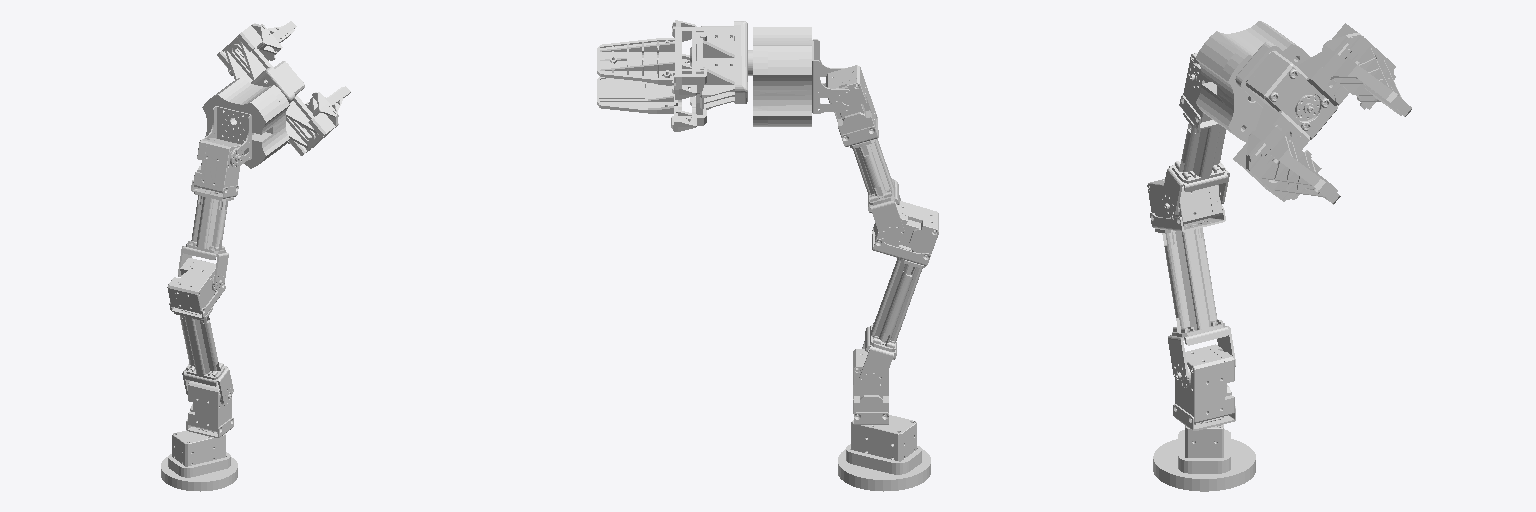
URDF robot description (complete_arm_assembly):
<?xml version="1.0" encoding="utf-8"?>
<!-- This URDF was automatically created by SolidWorks to URDF Exporter! Originally created by Stephen Brawner (brawner@gmail.com) 
     Commit Version: 1.6.0-4-g7f85cfe  Build Version: 1.6.7995.38578
     For more information, please see http://wiki.ros.org/sw_urdf_exporter -->
<robot
  name="complete_arm_assembly">
  <link
    name="base_link">
    <inertial>
      <origin
        xyz="-0.0126522064234279 0.0112081741589456 1.03738375057827"
        rpy="0 0 0" />
      <mass
        value="0.0944596926666338" />
      <inertia
        ixx="2.49395953752317E-05"
        ixy="-1.07943571271723E-07"
        ixz="1.09620010475091E-09"
        iyy="4.59171379732495E-05"
        iyz="8.47831697329348E-09"
        izz="3.13098479474975E-05" />
    </inertial>
    <visual>
      <origin
        xyz="0 0 0"
        rpy="0 0 0" />
      <geometry>
        <mesh
          filename="package://complete_arm_assembly/meshes/base_link.STL" />
      </geometry>
      <material
        name="">
        <color
          rgba="0.894117647058823 0.894117647058823 0.894117647058823 1" />
      </material>
    </visual>
    <collision>
      <origin
        xyz="0 0 0"
        rpy="0 0 0" />
      <geometry>
        <mesh
          filename="package://complete_arm_assembly/meshes/base_link.STL" />
      </geometry>
    </collision>
  </link>
  <link
    name="link_1">
    <inertial>
      <origin
        xyz="-1.21952357101662E-08 0.0275827025842473 0.000932155095934251"
        rpy="0 0 0" />
      <mass
        value="0.0446962058831376" />
      <inertia
        ixx="1.2281031278665E-05"
        ixy="1.20613706142599E-12"
        ixz="7.89362412621311E-12"
        iyy="7.29718852707007E-06"
        iyz="-1.08328965106875E-07"
        izz="1.06262085935607E-05" />
    </inertial>
    <visual>
      <origin
        xyz="0 0 0"
        rpy="0 0 0" />
      <geometry>
        <mesh
          filename="package://complete_arm_assembly/meshes/link_1.STL" />
      </geometry>
      <material
        name="">
        <color
          rgba="0.894117647058823 0.894117647058823 0.894117647058823 1" />
      </material>
    </visual>
    <collision>
      <origin
        xyz="0 0 0"
        rpy="0 0 0" />
      <geometry>
        <mesh
          filename="package://complete_arm_assembly/meshes/link_1.STL" />
      </geometry>
    </collision>
  </link>
  <joint
    name="joint_1"
    type="revolute">
    <origin
      xyz="-0.00078087 -1.0373 0.041025"
      rpy="1.5708 0 0.52968" />
    <parent
      link="base_link" />
    <child
      link="link_1" />
    <axis
      xyz="0 1 0" />
    <limit
      lower="0"
      upper="0"
      effort="0"
      velocity="0" />
  </joint>
  <link
    name="link_2">
    <inertial>
      <origin
        xyz="0.00834949781275746 0.104913900374987 0.000619823079234583"
        rpy="0 0 0" />
      <mass
        value="0.0672255298525689" />
      <inertia
        ixx="2.05050978794384E-05"
        ixy="6.64298051454639E-11"
        ixz="-1.08314547769564E-07"
        iyy="1.63154142770848E-05"
        iyz="-3.36235925763034E-11"
        izz="2.26290225979944E-05" />
    </inertial>
    <visual>
      <origin
        xyz="0 0 0"
        rpy="0 0 0" />
      <geometry>
        <mesh
          filename="package://complete_arm_assembly/meshes/link_2.STL" />
      </geometry>
      <material
        name="">
        <color
          rgba="0.894117647058823 0.894117647058823 0.894117647058823 1" />
      </material>
    </visual>
    <collision>
      <origin
        xyz="0 0 0"
        rpy="0 0 0" />
      <geometry>
        <mesh
          filename="package://complete_arm_assembly/meshes/link_2.STL" />
      </geometry>
    </collision>
  </link>
  <joint
    name="joint_2"
    type="revolute">
    <origin
      xyz="0 0.040505 0"
      rpy="0 0 0.31732" />
    <parent
      link="link_1" />
    <child
      link="link_2" />
    <axis
      xyz="0 0 1" />
    <limit
      lower="0"
      upper="0"
      effort="0"
      velocity="0" />
  </joint>
  <link
    name="link_3">
    <inertial>
      <origin
        xyz="0.0935866050880213 6.67293575173922E-07 0.00068111158867068"
        rpy="0 0 0" />
      <mass
        value="0.0611704168846414" />
      <inertia
        ixx="1.00859845876895E-05"
        ixy="-2.17559601024057E-11"
        ixz="-1.08328506713134E-07"
        iyy="1.83430472565671E-05"
        iyz="-9.01129243746046E-12"
        izz="1.53128567578939E-05" />
    </inertial>
    <visual>
      <origin
        xyz="0 0 0"
        rpy="0 0 0" />
      <geometry>
        <mesh
          filename="package://complete_arm_assembly/meshes/link_3.STL" />
      </geometry>
      <material
        name="">
        <color
          rgba="0.894117647058823 0.894117647058823 0.894117647058823 1" />
      </material>
    </visual>
    <collision>
      <origin
        xyz="0 0 0"
        rpy="0 0 0" />
      <geometry>
        <mesh
          filename="package://complete_arm_assembly/meshes/link_3.STL" />
      </geometry>
    </collision>
  </link>
  <joint
    name="joint_3"
    type="revolute">
    <origin
      xyz="0.024 0.128 0"
      rpy="0 0 0.95298" />
    <parent
      link="link_2" />
    <child
      link="link_3" />
    <axis
      xyz="0 0 1" />
    <limit
      lower="0"
      upper="0"
      effort="0"
      velocity="0" />
  </joint>
  <link
    name="link_4">
    <inertial>
      <origin
        xyz="0.0507317607444873 0.0117974755114853 -0.000207275711896826"
        rpy="0 0 0" />
      <mass
        value="0.181115636310511" />
      <inertia
        ixx="0.000125082991168769"
        ixy="-1.91715154402022E-07"
        ixz="-3.18809488045174E-07"
        iyy="7.52710719324352E-05"
        iyz="2.81457808221661E-09"
        izz="7.57487396080242E-05" />
    </inertial>
    <visual>
      <origin
        xyz="0 0 0"
        rpy="0 0 0" />
      <geometry>
        <mesh
          filename="package://complete_arm_assembly/meshes/link_4.STL" />
      </geometry>
      <material
        name="">
        <color
          rgba="0.894117647058823 0.894117647058823 0.894117647058823 1" />
      </material>
    </visual>
    <collision>
      <origin
        xyz="0 0 0"
        rpy="0 0 0" />
      <geometry>
        <mesh
          filename="package://complete_arm_assembly/meshes/link_4.STL" />
      </geometry>
    </collision>
  </link>
  <joint
    name="joint_4"
    type="revolute">
    <origin
      xyz="0.124 0 0"
      rpy="0 0 -1.2703" />
    <parent
      link="link_3" />
    <child
      link="link_4" />
    <axis
      xyz="0 0 1" />
    <limit
      lower="0"
      upper="0"
      effort="0"
      velocity="0" />
  </joint>
  <link
    name="link_5">
    <inertial>
      <origin
        xyz="0.0157360853404248 -0.00262699017847434 1.65823443865065E-08"
        rpy="0 0 0" />
      <mass
        value="0.0850149357001051" />
      <inertia
        ixx="3.37373512903583E-05"
        ixy="7.89582770327132E-07"
        ixz="4.15474871504368E-09"
        iyy="2.03515715548354E-05"
        iyz="-6.78213892525158E-08"
        izz="2.66043489763699E-05" />
    </inertial>
    <visual>
      <origin
        xyz="0 0 0"
        rpy="0 0 0" />
      <geometry>
        <mesh
          filename="package://complete_arm_assembly/meshes/link_5.STL" />
      </geometry>
      <material
        name="">
        <color
          rgba="0.894117647058823 0.894117647058823 0.894117647058823 1" />
      </material>
    </visual>
    <collision>
      <origin
        xyz="0 0 0"
        rpy="0 0 0" />
      <geometry>
        <mesh
          filename="package://complete_arm_assembly/meshes/link_5.STL" />
      </geometry>
    </collision>
  </link>
  <joint
    name="joint_5"
    type="revolute">
    <origin
      xyz="0.086402 0.02425 0.0005"
      rpy="0.73588 0 0" />
    <parent
      link="link_4" />
    <child
      link="link_5" />
    <axis
      xyz="1 0 0" />
    <limit
      lower="0"
      upper="0"
      effort="0"
      velocity="0" />
  </joint>
  <link
    name="left_finger">
    <inertial>
      <origin
        xyz="0.0781188934725541 1.6174765238105 1.73979296186067"
        rpy="0 0 0" />
      <mass
        value="0.0274218702393672" />
      <inertia
        ixx="7.35774020308452E-06"
        ixy="3.29864913425187E-09"
        ixz="-2.17677539898612E-07"
        iyy="8.21754721276065E-06"
        iyz="-1.71945655944004E-10"
        izz="1.30421684504181E-05" />
    </inertial>
    <visual>
      <origin
        xyz="0 0 0"
        rpy="0 0 0" />
      <geometry>
        <mesh
          filename="package://complete_arm_assembly/meshes/left_finger.STL" />
      </geometry>
      <material
        name="">
        <color
          rgba="0.894117647058823 0.894117647058823 0.894117647058823 1" />
      </material>
    </visual>
    <collision>
      <origin
        xyz="0 0 0"
        rpy="0 0 0" />
      <geometry>
        <mesh
          filename="package://complete_arm_assembly/meshes/left_finger.STL" />
      </geometry>
    </collision>
  </link>
  <joint
    name="left_finger_joint"
    type="prismatic">
    <origin
      xyz="-0.019263 -1.6285 -1.7856"
      rpy="0 0 0" />
    <parent
      link="link_5" />
    <child
      link="left_finger" />
    <axis
      xyz="1 0 0" />
    <limit
      lower="0"
      upper="0"
      effort="0"
      velocity="0" />
  </joint>
  <link
    name="right_finger">
    <inertial>
      <origin
        xyz="0.0781189009130919 1.61747652084744 1.73979295754266"
        rpy="0 0 0" />
      <mass
        value="0.0274218628103051" />
      <inertia
        ixx="7.3577374565536E-06"
        ixy="3.2993037045971E-09"
        ixz="-2.17678420451016E-07"
        iyy="8.21755014234899E-06"
        iyz="-1.71039214492556E-10"
        izz="1.30421672826558E-05" />
    </inertial>
    <visual>
      <origin
        xyz="0 0 0"
        rpy="0 0 0" />
      <geometry>
        <mesh
          filename="package://complete_arm_assembly/meshes/right_finger.STL" />
      </geometry>
      <material
        name="">
        <color
          rgba="0.894117647058823 0.894117647058823 0.894117647058823 1" />
      </material>
    </visual>
    <collision>
      <origin
        xyz="0 0 0"
        rpy="0 0 0" />
      <geometry>
        <mesh
          filename="package://complete_arm_assembly/meshes/right_finger.STL" />
      </geometry>
    </collision>
  </link>
  <joint
    name="right_finger_joint"
    type="prismatic">
    <origin
      xyz="-0.019263 1.6058 1.7856"
      rpy="-3.1416 0 0" />
    <parent
      link="link_5" />
    <child
      link="right_finger" />
    <axis
      xyz="1 0 0" />
    <limit
      lower="0"
      upper="0"
      effort="0"
      velocity="0" />
    <mimic
      joint="left_finger_joint"
      multiplier="-1"
      offset="0" />
  </joint>
</robot>

--- Facts derived from the render (not from the file) ---
The picture shows the robot from 3 angles, left to right: view 1: azimuth 30°, elevation 25°; view 2: azimuth 150°, elevation 25°; view 3: azimuth 270°, elevation 25°; orthographic projection.
Robot: complete_arm_assembly — 8 links, 7 joints (5 revolute, 2 prismatic); root link base_link; default pose: all joints at 0.
Links seen in each view (by area): view 1: link_4, link_2, link_3, base_link, link_5, link_1, left_finger, right_finger; view 2: link_4, link_2, base_link, link_3, left_finger, link_5, right_finger, link_1; view 3: link_2, link_5, link_4, base_link, link_3, right_finger, link_1, left_finger.
Boxes of the visible links, left/top/right/bottom form: link_4: left=202, top=77, right=289, bottom=168; link_2: left=167, top=258, right=233, bottom=403; link_3: left=178, top=138, right=241, bottom=285; base_link: left=161, top=430, right=237, bottom=491; link_5: left=222, top=37, right=322, bottom=150; link_1: left=186, top=381, right=233, bottom=437; left_finger: left=217, top=21, right=296, bottom=75; right_finger: left=288, top=86, right=350, bottom=155; link_4: left=753, top=27, right=849, bottom=126; link_2: left=859, top=201, right=938, bottom=386; base_link: left=838, top=415, right=930, bottom=491; link_3: left=826, top=65, right=904, bottom=240; left_finger: left=597, top=20, right=706, bottom=99; link_5: left=696, top=21, right=752, bottom=114; right_finger: left=597, top=54, right=706, bottom=131; link_1: left=853, top=349, right=888, bottom=424; link_2: left=1147, top=179, right=1235, bottom=378; link_5: left=1235, top=42, right=1349, bottom=184; link_4: left=1192, top=21, right=1310, bottom=142; base_link: left=1153, top=424, right=1255, bottom=491; link_3: left=1161, top=53, right=1229, bottom=215; right_finger: left=1233, top=125, right=1340, bottom=204; link_1: left=1173, top=344, right=1235, bottom=430; left_finger: left=1321, top=23, right=1411, bottom=116.
Bounding box of the posed robot: 0.2611 × 0.1934 × 0.4094 m (x, y, z).
8 mesh visuals loaded from 8 distinct referenced files (8 binary STL).
